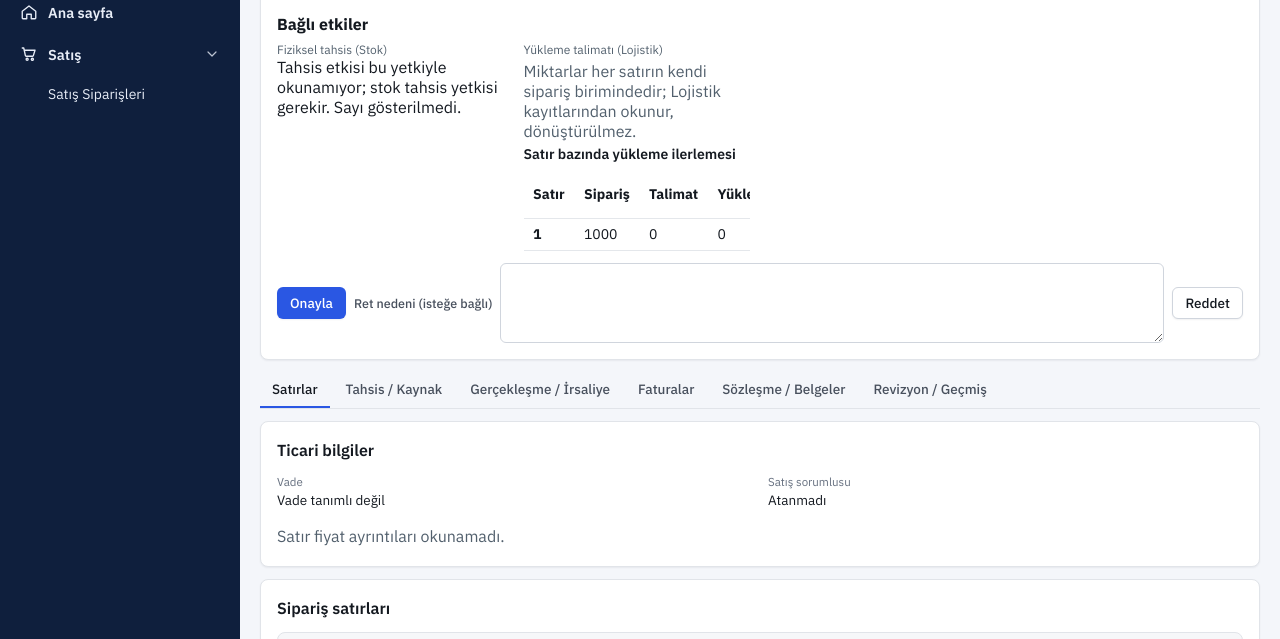
Test: S-04 commands › a 409 version conflict says the draft moved, never the product-version sentence, and re-reads the draft (S04-03)
(page scrolled)
What coordinates should you click on to do the following:
click the button "Reddet"
I would click on:
 (1208, 303)
Its box is [1172,287,1243,319].
(page scrolled)
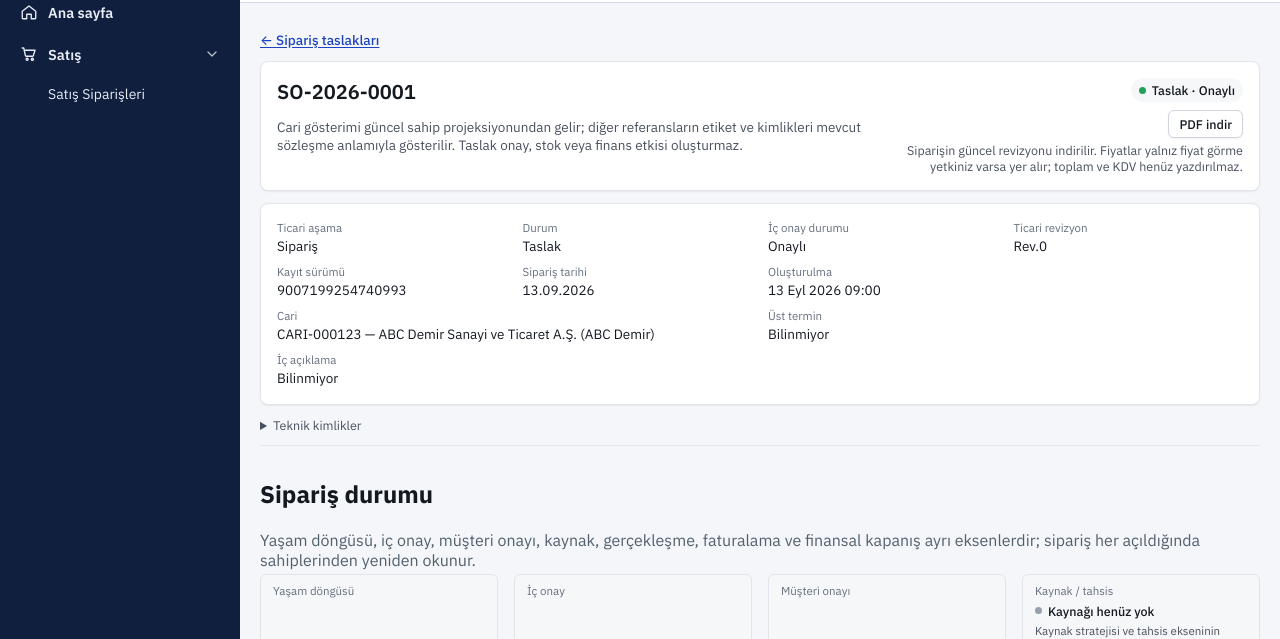
Expected: the button "Onayla" is not shown
Expected: the text "Onaylı" is shown, [768,237,806,255]
